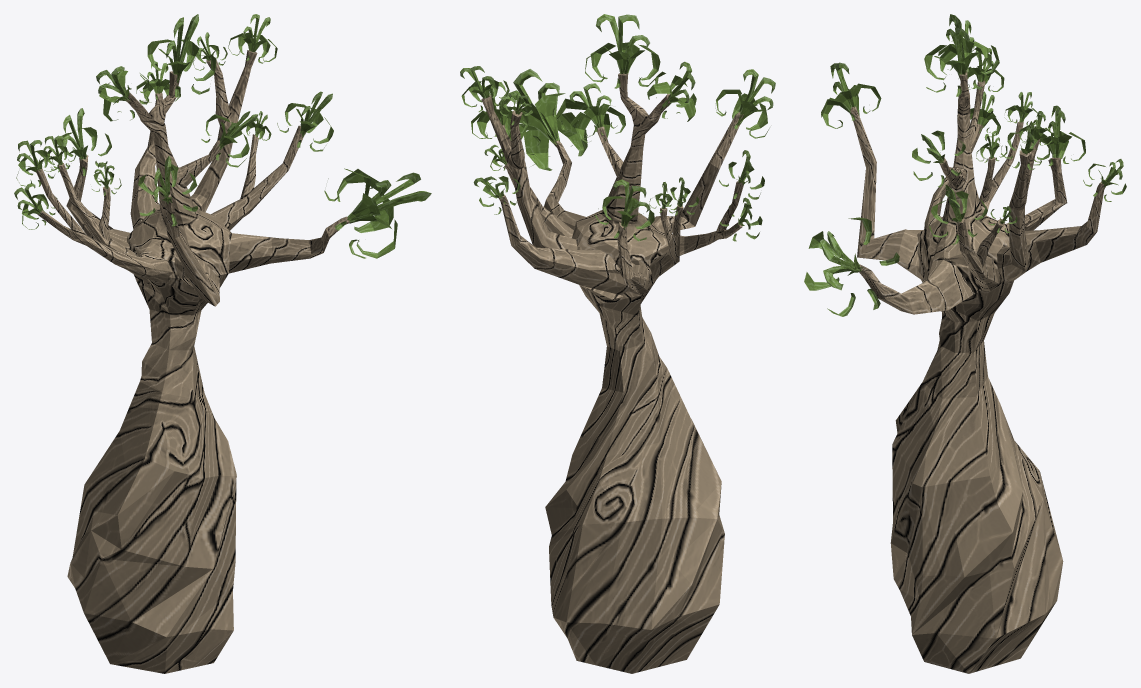
File: Large Desert Plant 02.gltf
The picture shows the model from 3 angles, left to right: view 1: azimuth 30°, elevation 25°; view 2: azimuth 150°, elevation 25°; view 3: azimuth 270°, elevation 25°; orthographic projection.
Bounding box in the file's own units: 1.78 × 3.2 × 1.47.
Materials: 1 (1 with a texture image).
